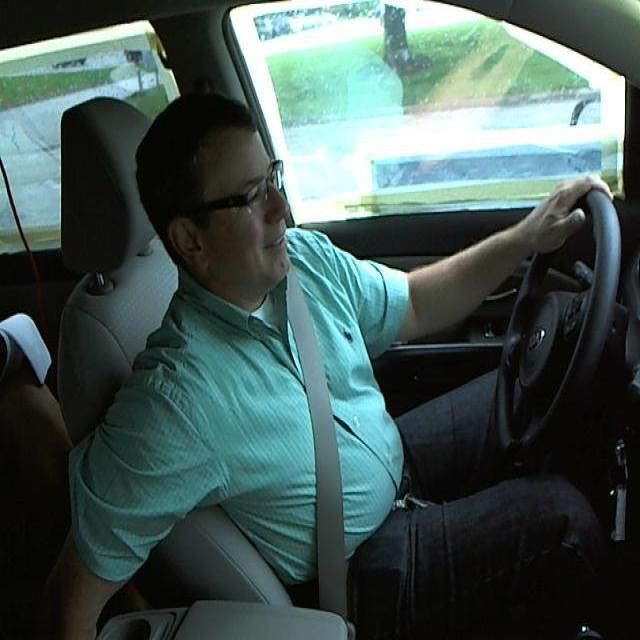seatbelt: (271, 309, 383, 603)
